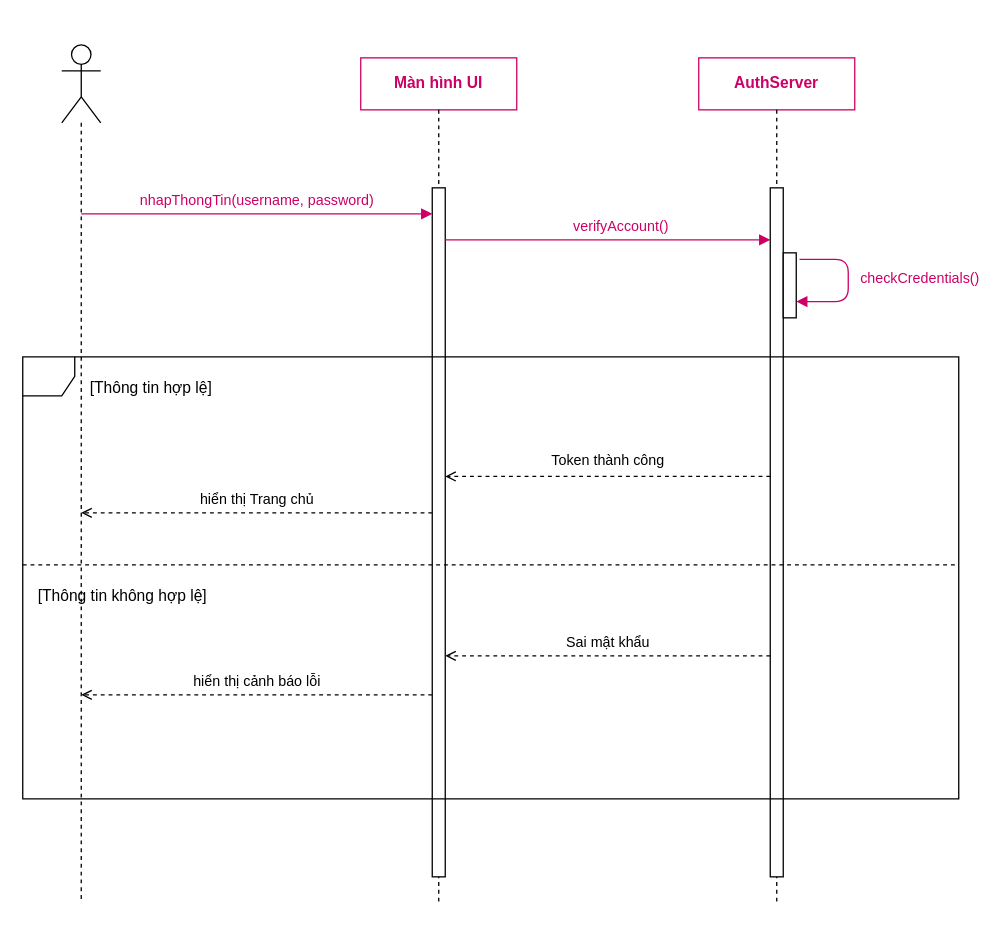
The diagram is 1002 pixels wide and 927 high, and some of its shapes have lost their labels. Here are the shapes that lost their labels. From the top down, the box of each, then its label:
(60, 44, 101, 123): Khách hàng
(21, 356, 959, 799): alt
